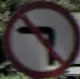Don't turn left: (9, 10, 64, 64)
